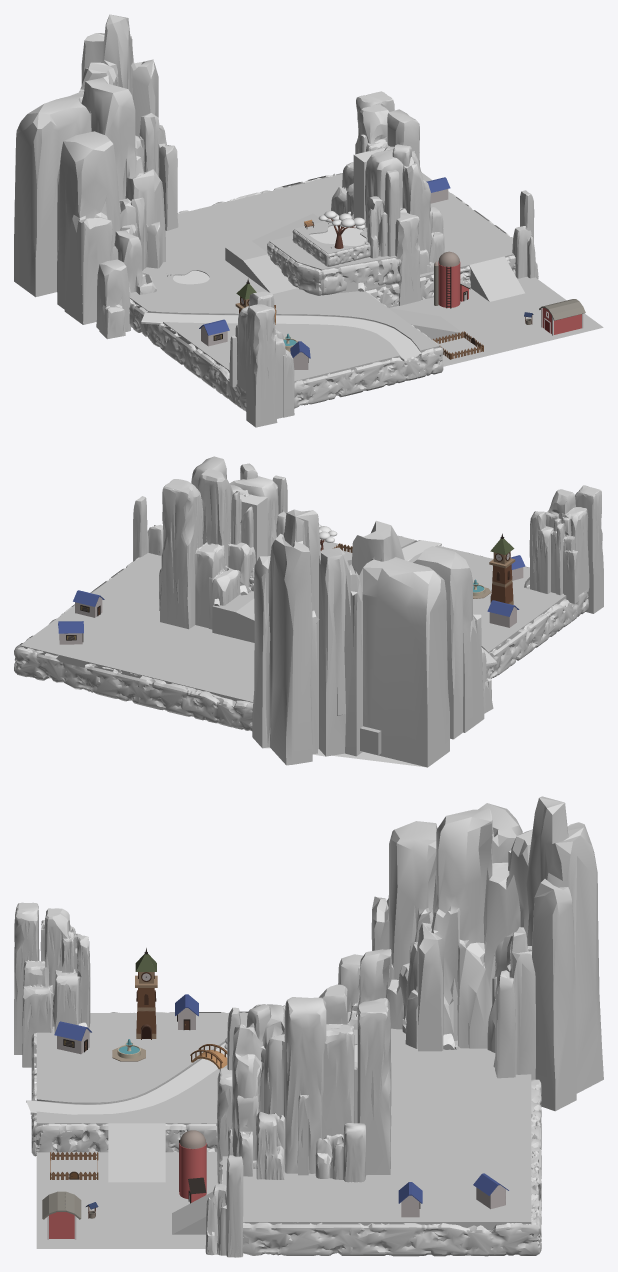
File: map.fbx
3 views of the same model, one above another, from view 1: azimuth 30°, elevation 25°; view 2: azimuth 150°, elevation 25°; view 3: azimuth 270°, elevation 25° (orthographic). The views are drawn at different scales.
Parts seen in each view (by area): view 1: ground.001, cliffs.007, cliffs.008, cliffs.006, cliffs.002, rock.006, rock.011, cliffs.005, BezierCurve.002, cliffs.010, cliffs.004, cliffs.001 (+14 smaller); view 2: cliffs.007, ground.001, cliffs.010, cliffs.008, rock.012, rock.011, cliffs.002, cliffs.003, ClockTower, waterfall.002, cliffs.013, BasicHouse.001 (+5 smaller); view 3: ground.001, cliffs.007, cliffs.010, cliffs.002, rock.013, cliffs.008, cliffs.005, cliffs.006, cliffs.009, cliffs.003, rock, BezierCurve.002 (+13 smaller).
Boxes of the visible parts, x1,y1,x2,y2 form: ground.001: (129,172,603,381); cliffs.007: (14,14,165,324); cliffs.008: (229,291,294,427); cliffs.006: (96,197,162,339); cliffs.002: (365,109,431,261); rock.006: (294,347,443,408); rock.011: (129,298,246,411); cliffs.005: (135,113,178,230); BezierCurve.002: (141,312,421,361); cliffs.010: (331,91,394,215); cliffs.004: (395,212,433,305); cliffs.001: (367,169,400,258); cliffs.007: (252,509,484,767); ground.001: (20,536,566,755); cliffs.010: (160,468,255,629); cliffs.008: (529,485,603,613); rock.012: (15,646,253,731); rock.011: (486,589,588,678); cliffs.002: (191,456,278,555); cliffs.003: (133,496,163,561); ClockTower: (489,533,515,604); waterfall.002: (239,494,267,562); cliffs.013: (231,491,253,547); BasicHouse.001: (73,590,104,617); ground.001: (36,1013,531,1248); cliffs.007: (371,796,603,1111); cliffs.010: (298,984,391,1175); cliffs.002: (232,997,326,1173); rock.013: (243,1222,540,1256); cliffs.008: (14,902,90,1067); cliffs.005: (487,927,535,1079); cliffs.006: (338,944,418,1048); cliffs.009: (236,1095,285,1179); cliffs.003: (205,1155,243,1257); rock: (32,1123,217,1155); BezierCurve.002: (26,1005,285,1114).
Size of the model in its own units: 6330 by 3669 by 6534.
